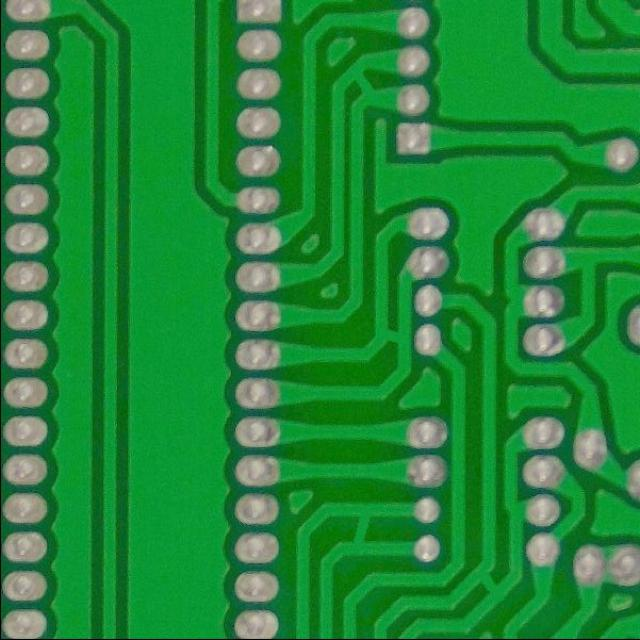Short_Circuit: (333, 493, 389, 561), (338, 58, 388, 110), (466, 563, 514, 607), (366, 316, 416, 352)
